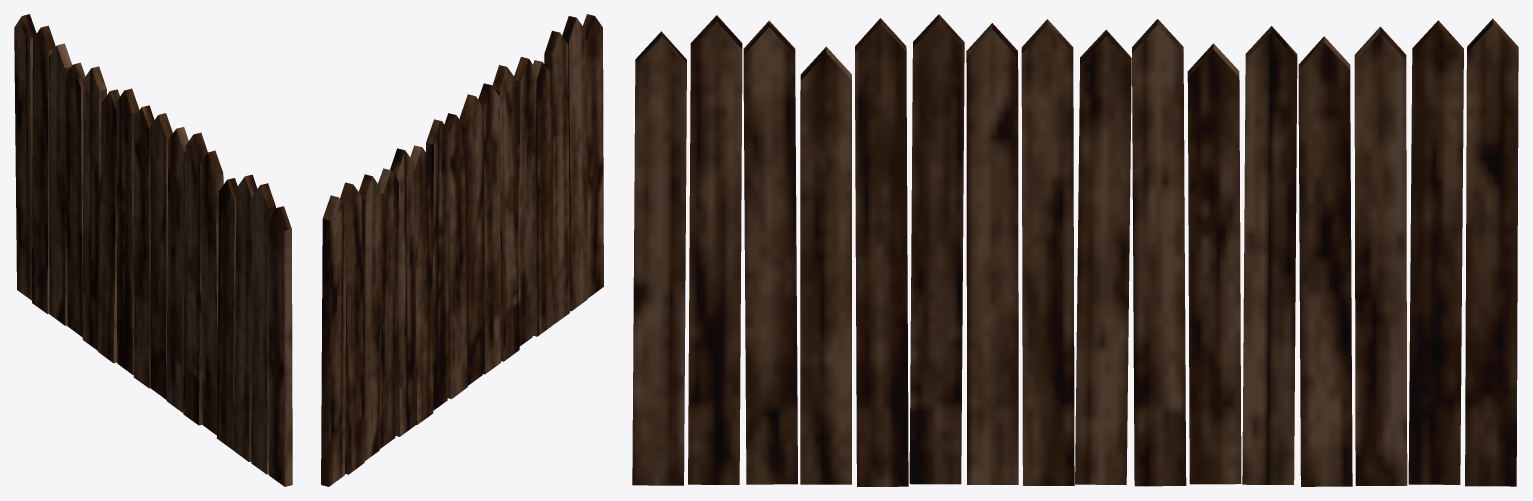
The model's file is fence_wooden_1.fbx.
3 renders of one model, left to right at view 1: azimuth 30°, elevation 25°; view 2: azimuth 150°, elevation 25°; view 3: azimuth 270°, elevation 25°, orthographic. The views are drawn at different scales.
Parts seen in each view (by area): view 1: Fence 1; view 2: Fence 1; view 3: Fence 1.
Boxes of the visible parts, bbox=[...] form: Fence 1: bbox=[14, 14, 292, 486]; Fence 1: bbox=[321, 14, 603, 486]; Fence 1: bbox=[632, 14, 1518, 486].
Size of the model in its own units: 21.58 by 505 by 869.
